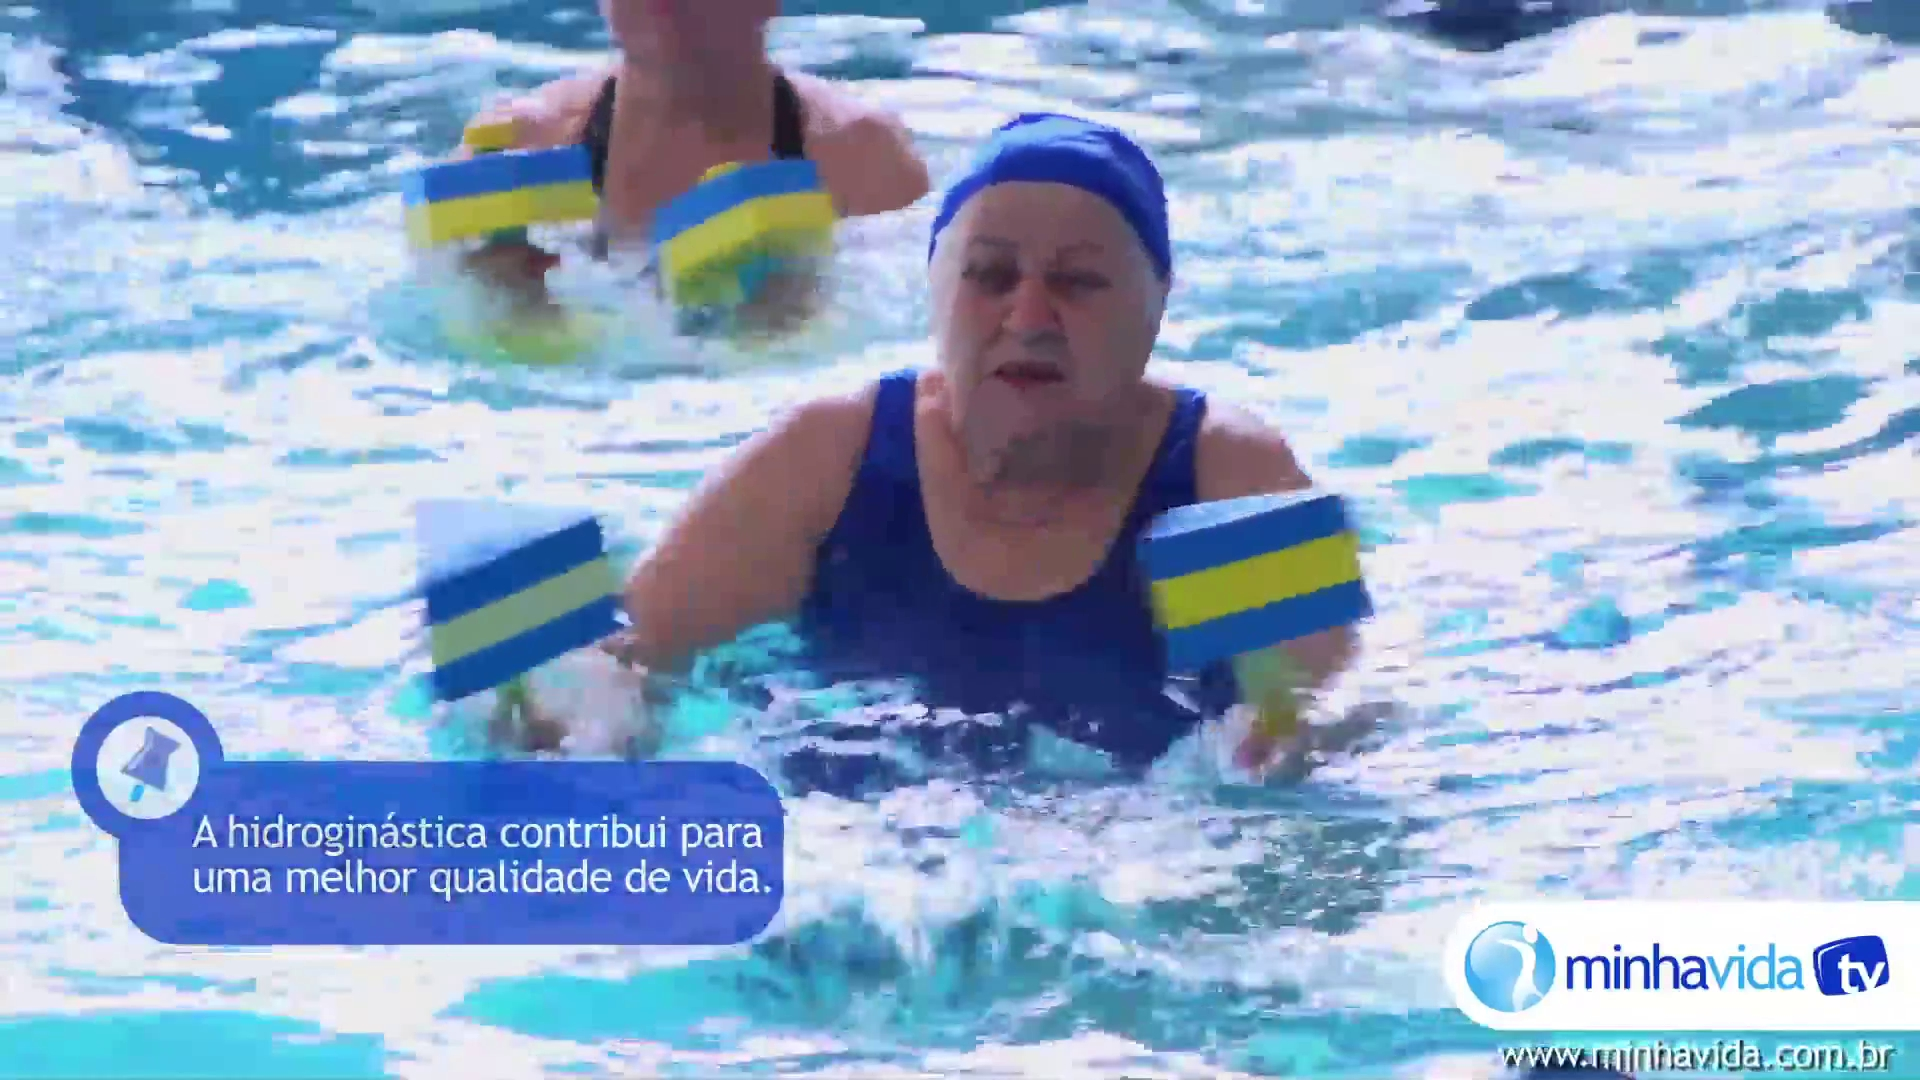person: (492, 111, 1362, 786), (448, 1, 933, 361)
